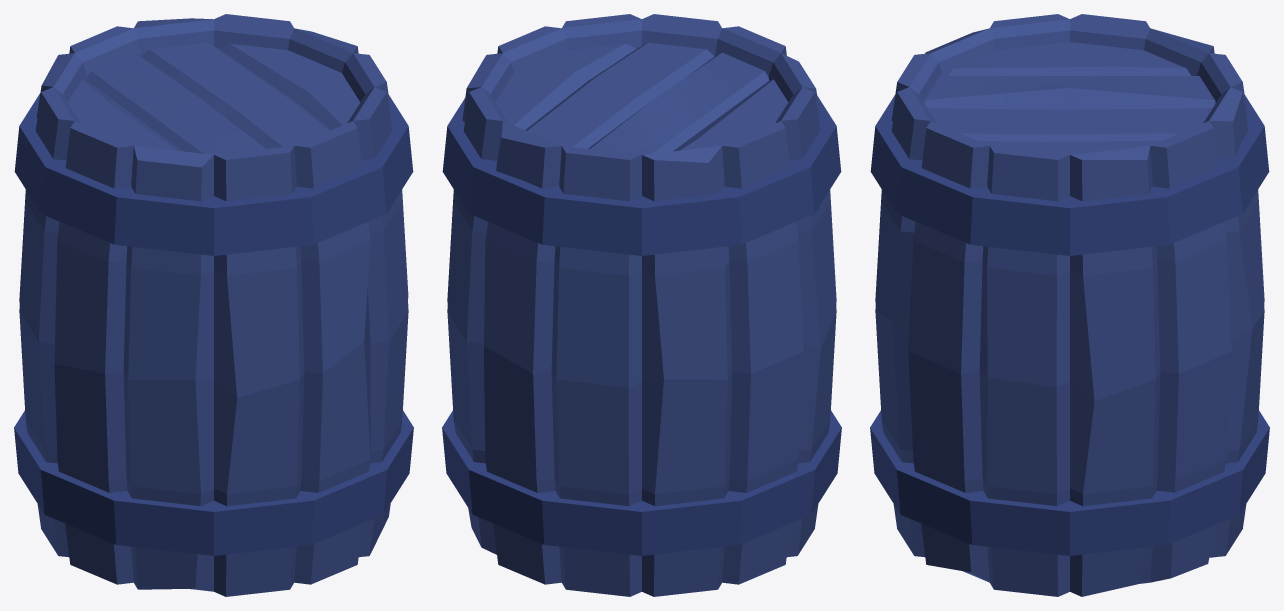
The model's file is SM_Prop_Barrel_01.fbx.
3 views of the same model, side by side, from view 1: azimuth 30°, elevation 25°; view 2: azimuth 150°, elevation 25°; view 3: azimuth 270°, elevation 25° (orthographic).
Visible parts, largest first — view 1: SM_Prop_Barrel_01; view 2: SM_Prop_Barrel_01; view 3: SM_Prop_Barrel_01.
Boxes of the visible parts, <box> form: SM_Prop_Barrel_01: <box>14,14,413,596</box>; SM_Prop_Barrel_01: <box>442,14,841,596</box>; SM_Prop_Barrel_01: <box>870,14,1269,596</box>.
Size of the model in its own units: 77.72 by 93.69 by 77.72.
